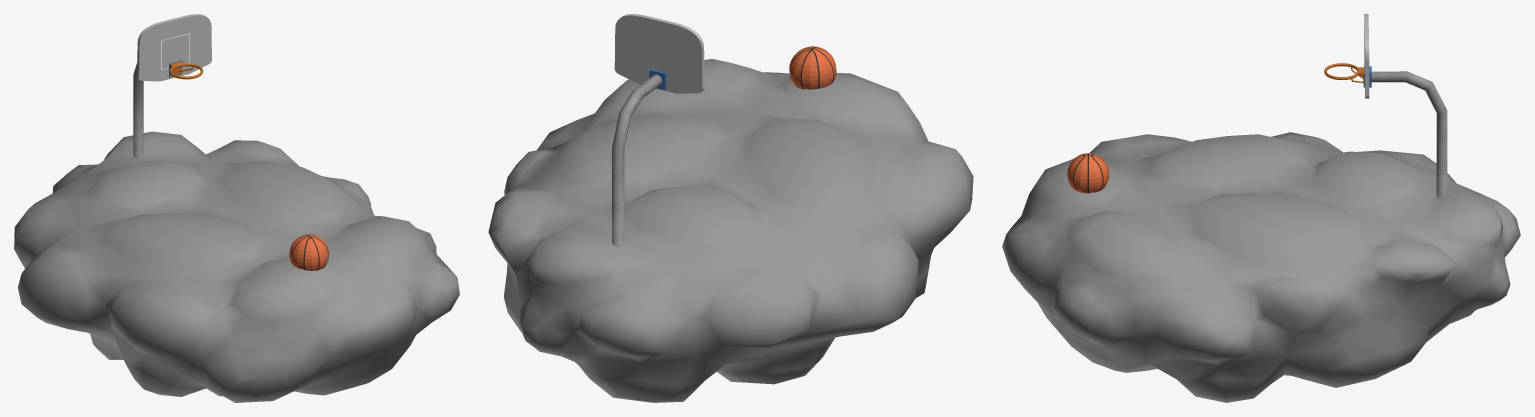
File: basketball_on_cloud4.glb
3 views of the same model, side by side, from view 1: azimuth 30°, elevation 25°; view 2: azimuth 150°, elevation 25°; view 3: azimuth 270°, elevation 25° (orthographic). The views are drawn at different scales.
Parts seen in each view (by area): view 1: Object_3, Box002__0, BasketballBall_MainColor_0, Line001__0; view 2: Object_3, Box002__0, Line001__0, BasketballBall_MainColor_0; view 3: Object_3, Line001__0, BasketballBall_MainColor_0.
Boxes of the visible parts, box(x1,y1,x2,y2) form: Object_3: box(14, 131, 459, 402); Box002__0: box(137, 14, 211, 81); BasketballBall_MainColor_0: box(289, 234, 329, 270); Line001__0: box(133, 60, 182, 158); Object_3: box(488, 59, 973, 402); Box002__0: box(614, 14, 704, 93); Line001__0: box(612, 69, 666, 246); BasketballBall_MainColor_0: box(789, 46, 836, 89); Object_3: box(1002, 132, 1520, 402); Line001__0: box(1364, 66, 1447, 197); BasketballBall_MainColor_0: box(1067, 153, 1109, 193).
Size of the model in its own units: 12.18 by 10.53 by 14.54.
4 materials, 1 textured.
